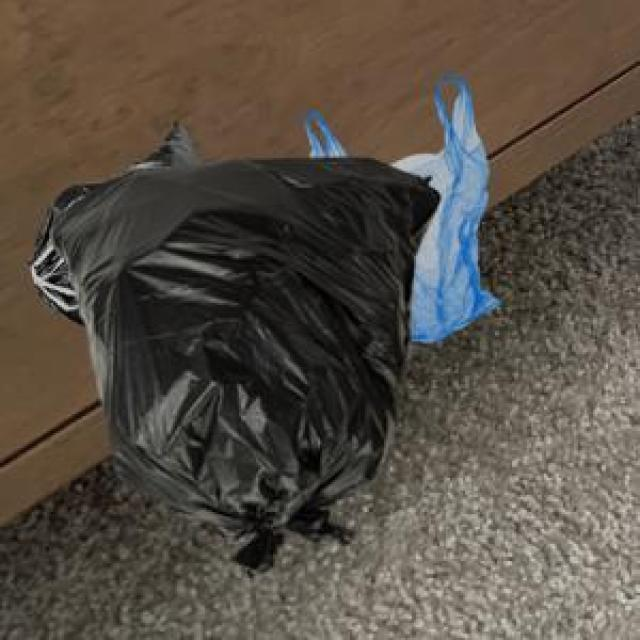miscellaneous trash: (47, 154, 435, 574), (26, 117, 197, 322)
